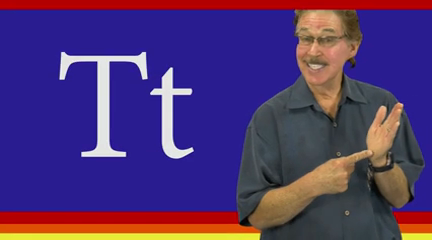T: (313, 102, 406, 194)
